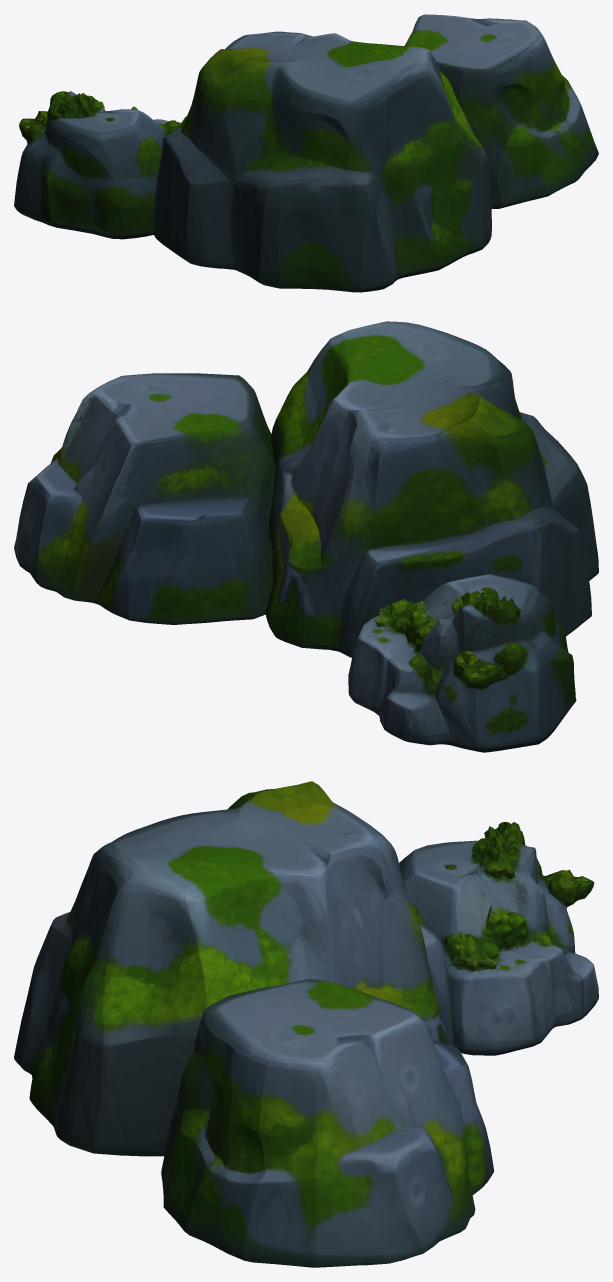
File: rochers.glb
3 views of the same model, one above another, from view 1: azimuth 30°, elevation 25°; view 2: azimuth 150°, elevation 25°; view 3: azimuth 270°, elevation 25° (orthographic). The views are drawn at different scales.
Visible parts, largest first — view 1: world; view 2: world; view 3: world.
Part boxes in pixels (<box>): world: <box>14,14,598,292</box>; world: <box>14,321,598,752</box>; world: <box>14,781,598,1267</box>.
Size of the model in its own units: 0.7007 by 0.2512 by 0.5158.
Materials: 1 (1 with a texture image).
